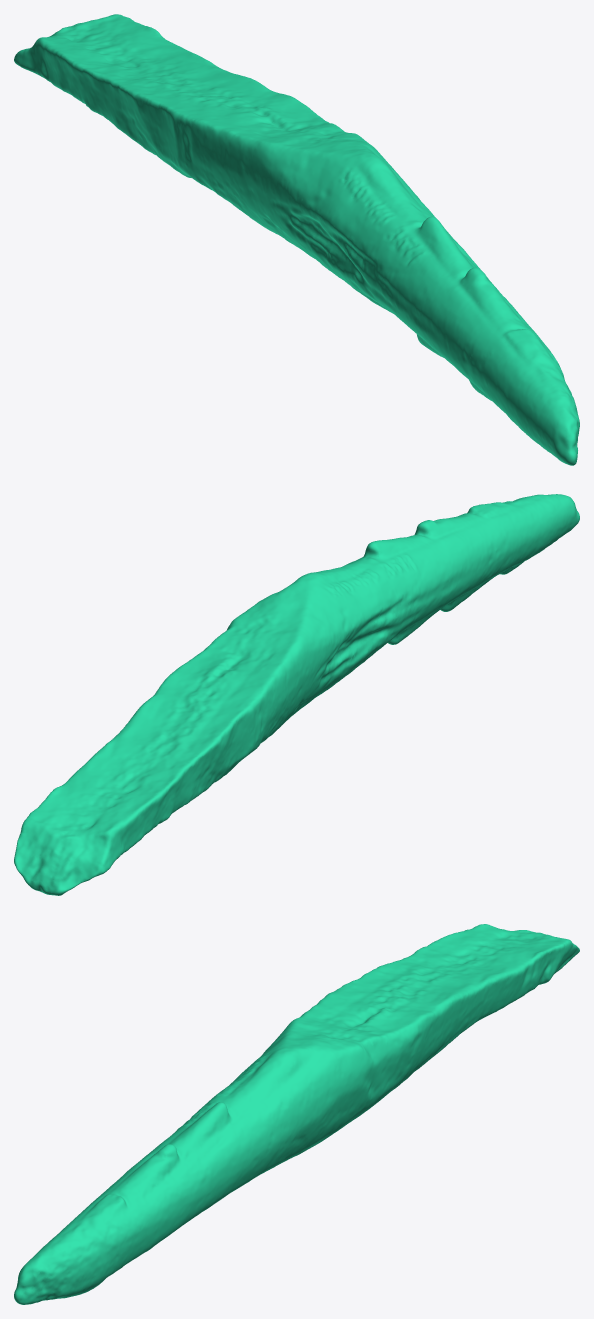
3 renders of one model, top to bottom at view 1: azimuth 30°, elevation 25°; view 2: azimuth 150°, elevation 25°; view 3: azimuth 330°, elevation 25°, orthographic. The views are drawn at different scales.
Visible parts, largest first — view 1: Object_2; view 2: Object_2; view 3: Object_2.
Part boxes in pixels (left/top/right/bottom): Object_2: left=14, top=14, right=579, bottom=465; Object_2: left=14, top=494, right=579, bottom=895; Object_2: left=14, top=924, right=579, bottom=1304.
Size of the model in its own units: 0.1154 by 0.128 by 1.
